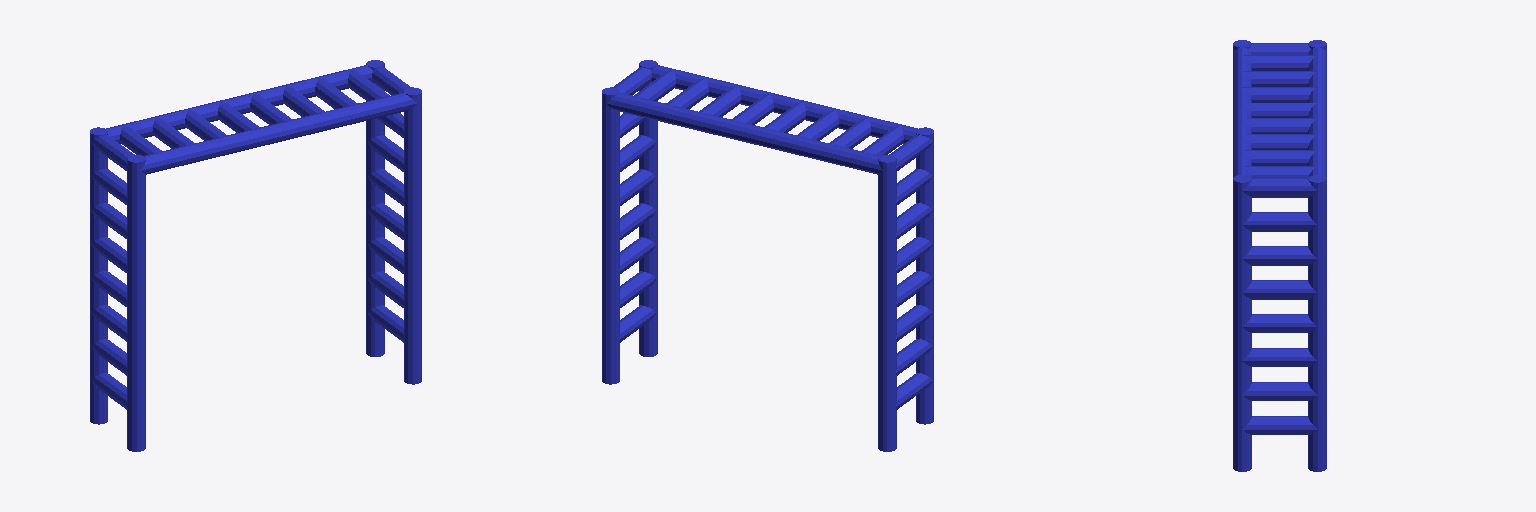
The picture shows the model from 3 angles: view 1: azimuth 30°, elevation 25°; view 2: azimuth 150°, elevation 25°; view 3: azimuth 270°, elevation 25°; orthographic projection.
Parts seen in each view (by area): view 1: cylinder01, cylinder11, cylinder22, cylinder02, cylinder12, cylinder23, cylinder04, cylinder15, cylinder17, cylinder18, cylinder19, cylinder16 (+17 smaller); view 2: cylinder02, cylinder12, cylinder23, cylinder01, cylinder11, cylinder22, cylinder04, cylinder15, cylinder17, cylinder18, cylinder19, cylinder16 (+17 smaller); view 3: cylinder11, cylinder12, cylinder22, cylinder23, cylinder14, cylinder15, cylinder16, cylinder18, cylinder19, cylinder13, cylinder17, cylinder20 (+9 smaller).
Part boxes in pixels (left/top/right/bottom): cylinder01: left=127, top=155, right=145, bottom=451; cylinder11: left=404, top=87, right=421, bottom=384; cylinder22: left=141, top=93, right=417, bottom=174; cylinder02: left=90, top=127, right=107, bottom=424; cylinder12: left=366, top=60, right=384, bottom=356; cylinder23: left=106, top=65, right=372, bottom=143; cylinder04: left=91, top=134, right=134, bottom=170; cylinder15: left=367, top=135, right=404, bottom=171; cylinder17: left=367, top=203, right=404, bottom=239; cylinder18: left=367, top=237, right=404, bottom=273; cylinder19: left=367, top=271, right=404, bottom=307; cylinder16: left=367, top=169, right=404, bottom=205; cylinder02: left=878, top=155, right=896, bottom=451; cylinder12: left=602, top=87, right=619, bottom=384; cylinder23: left=606, top=93, right=882, bottom=174; cylinder01: left=916, top=127, right=933, bottom=424; cylinder11: left=639, top=60, right=657, bottom=356; cylinder22: left=651, top=65, right=917, bottom=143; cylinder04: left=889, top=134, right=932, bottom=170; cylinder15: left=619, top=135, right=656, bottom=171; cylinder17: left=619, top=203, right=656, bottom=239; cylinder18: left=619, top=237, right=656, bottom=273; cylinder19: left=619, top=271, right=656, bottom=307; cylinder16: left=619, top=169, right=656, bottom=205; cylinder11: left=1233, top=175, right=1251, bottom=471; cylinder12: left=1308, top=175, right=1326, bottom=471; cylinder22: left=1233, top=48, right=1251, bottom=177; cylinder23: left=1308, top=48, right=1326, bottom=177; cylinder14: left=1243, top=212, right=1316, bottom=230; cylinder15: left=1243, top=246, right=1316, bottom=264; cylinder16: left=1243, top=280, right=1316, bottom=298; cylinder18: left=1242, top=348, right=1317, bottom=366; cylinder19: left=1242, top=382, right=1317, bottom=400; cylinder13: left=1243, top=178, right=1316, bottom=196; cylinder17: left=1243, top=314, right=1316, bottom=332; cylinder20: left=1243, top=416, right=1316, bottom=434.
Size of the model in its own units: 36 by 34 by 10.
Materials: 1 (1 with a texture image).